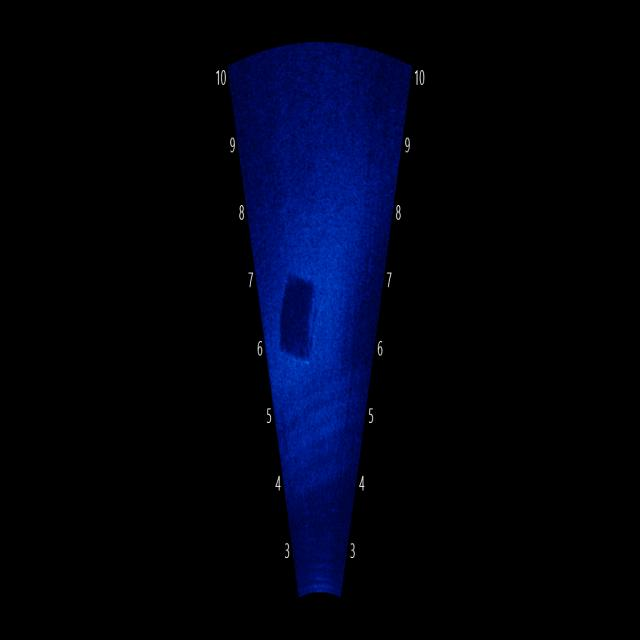square: (267, 248, 319, 384)
